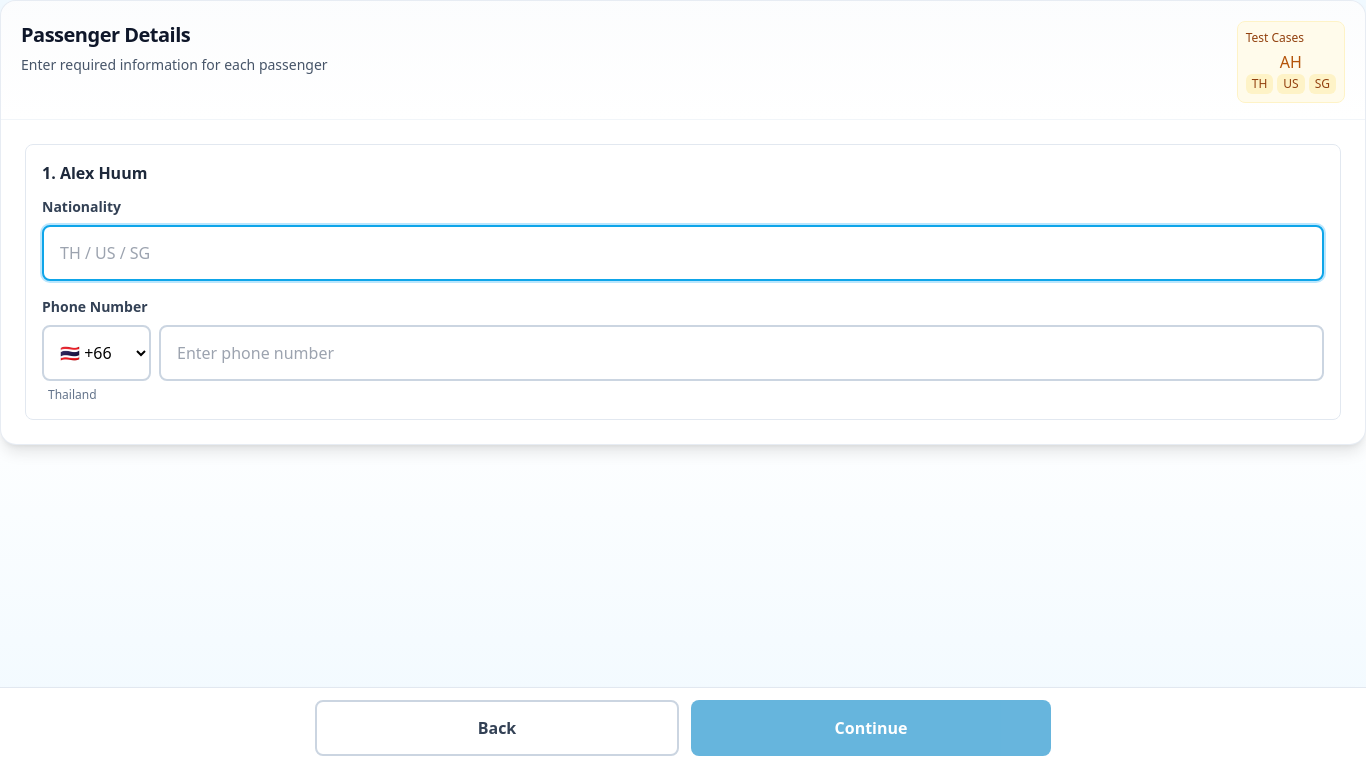
Test: PassengerDetails › Nationality Validation › should show error when nationality contains non-letters
The width and height of the screenshot is (1366, 768).
Type "T1" into the field with placeholder "TH / US / SG" at [683, 253], box [42,225,1324,281]
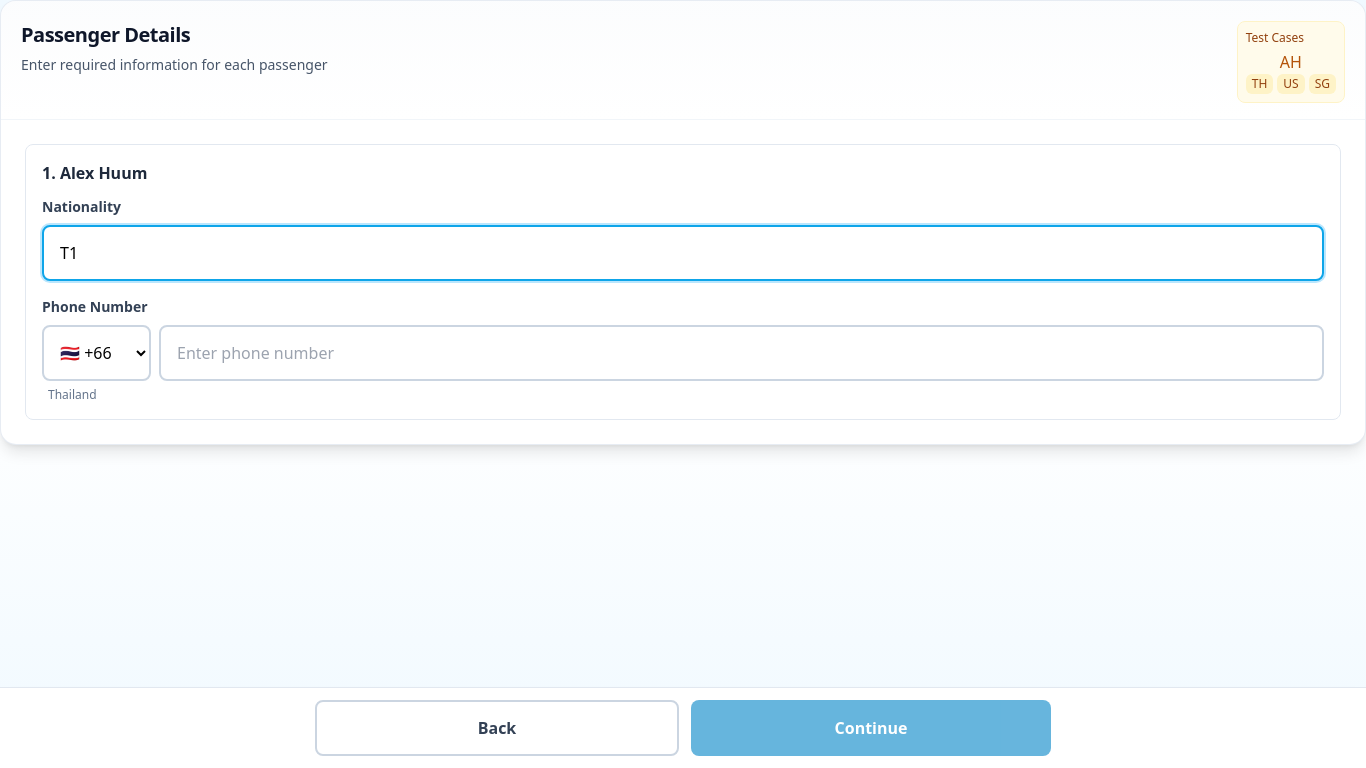
Press Tab
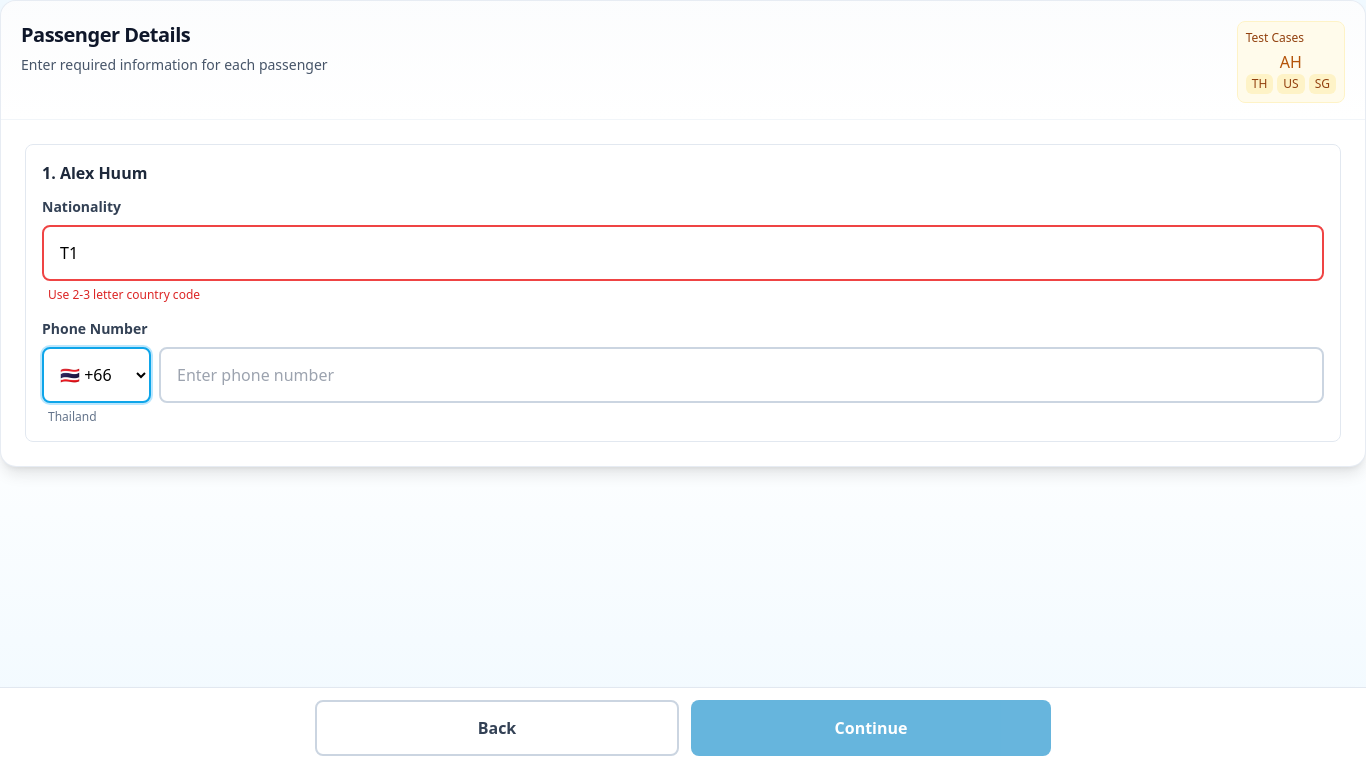
Result: the text "Use 2-3 letter country code" is shown at [48,286,200,303]
